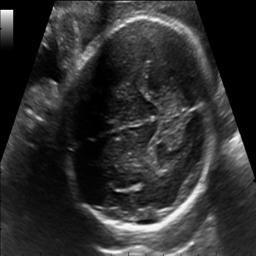normal: (67, 14, 220, 238)
